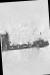D36: (2, 0, 48, 74)
